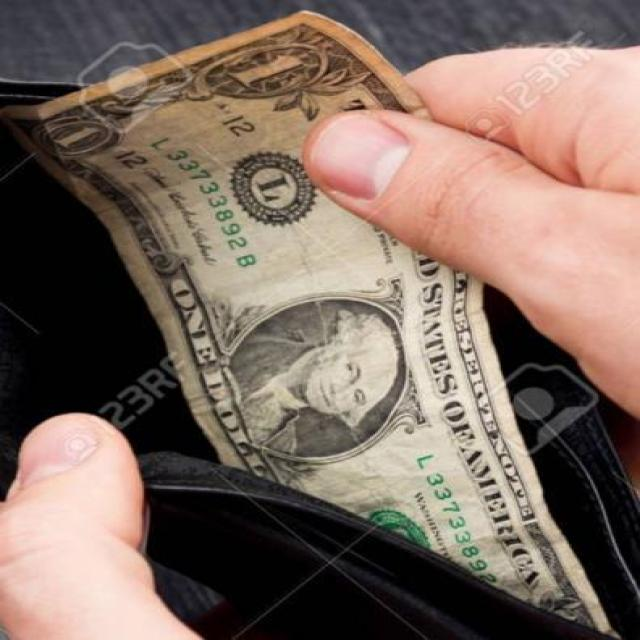1-Front: (0, 7, 635, 640)
